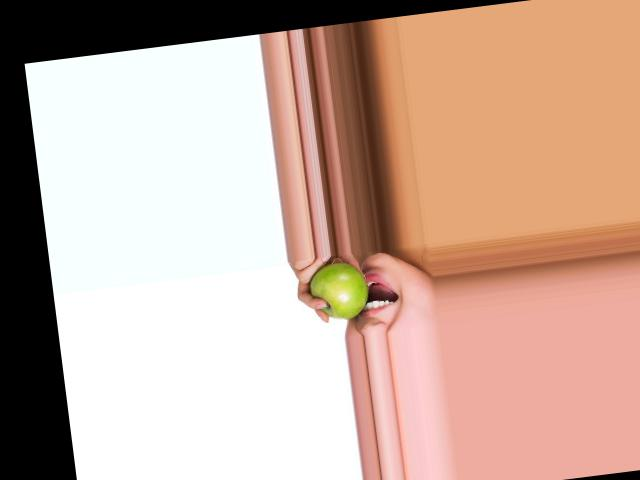apple: (305, 259, 373, 324)
